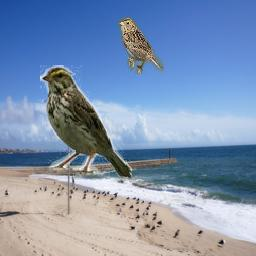Sparrow: (40, 66, 132, 181), (118, 18, 164, 75)
